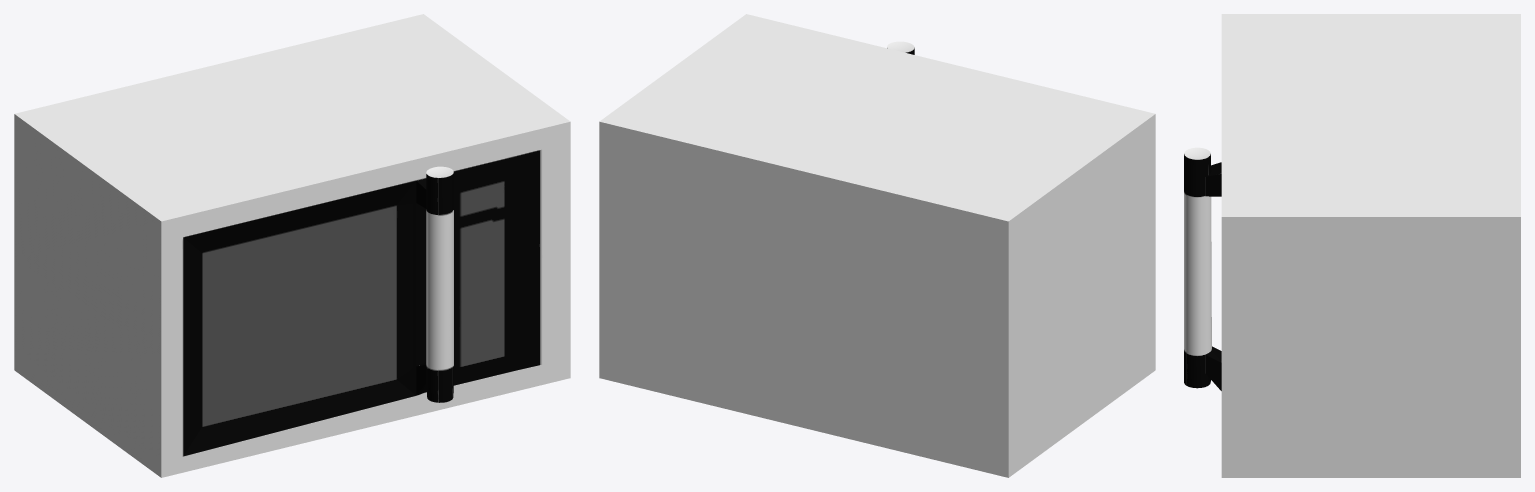
Rendered from Microwave.fbx.
The picture shows the model from 3 angles, left to right: view 1: azimuth 30°, elevation 25°; view 2: azimuth 150°, elevation 25°; view 3: azimuth 270°, elevation 25°; orthographic projection.
Parts seen in each view (by area): view 1: Microwave1; view 2: Microwave1; view 3: Microwave1.
Part boxes in pixels (x1,y1,x2,y2): Microwave1: [14, 14, 570, 477]; Microwave1: [599, 14, 1155, 477]; Microwave1: [1184, 14, 1520, 477].
Bounding box in the file's own units: 75.47 × 45.19 × 52.89.
Materials: 1 (1 with a texture image).
